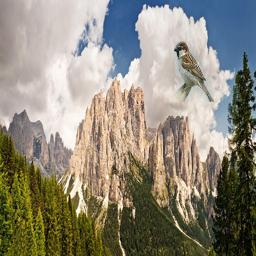Sparrow: (174, 41, 214, 102)
